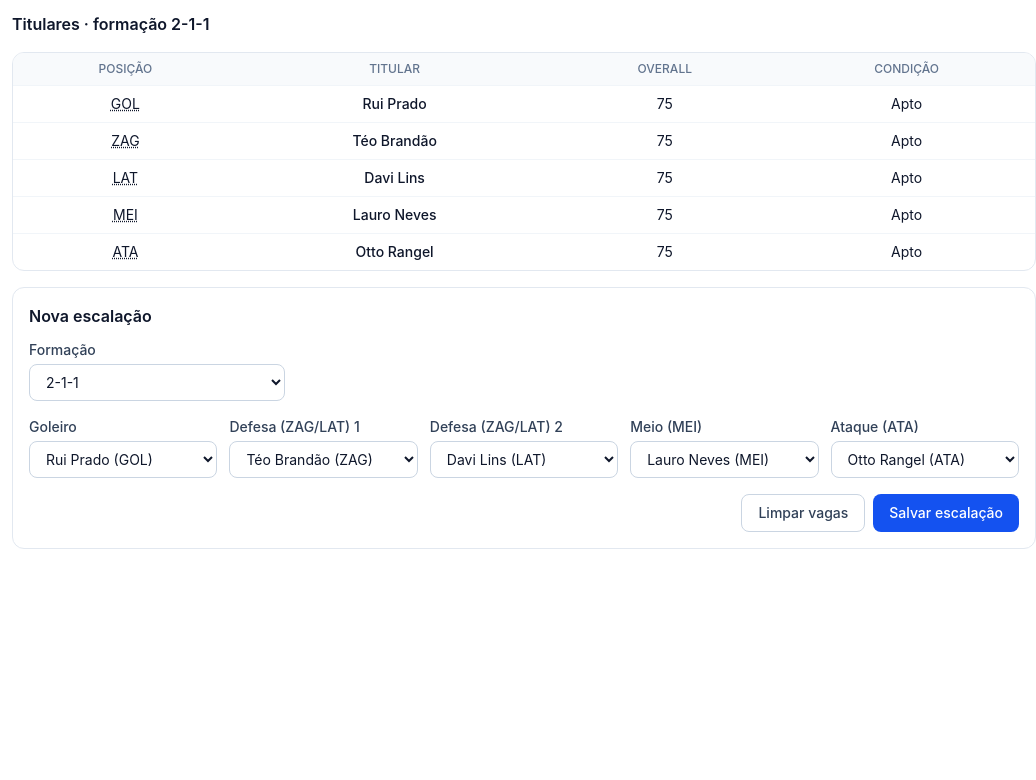
LineupSection › shows the API message when the lineup is refused
Click the button "Salvar escalação": {"x": 946, "y": 513} [873,494,1019,532]
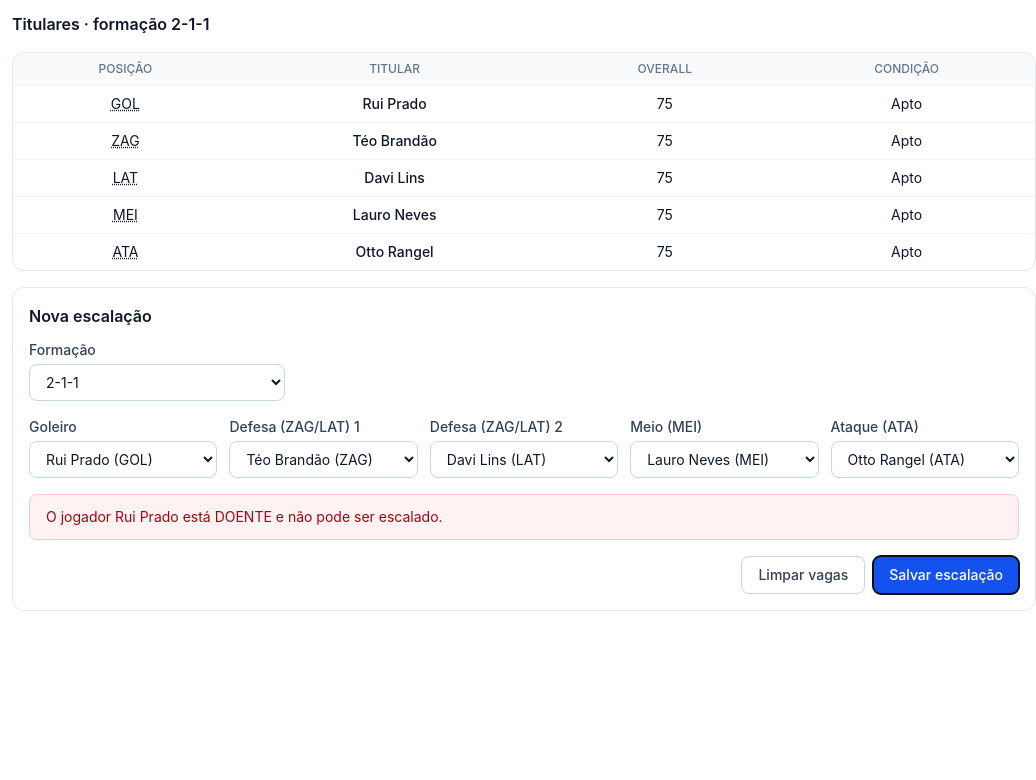
Expected: the message reads "O jogador Rui Prado está DOENTE e não pode ser escalado.", [46,508,443,525]
